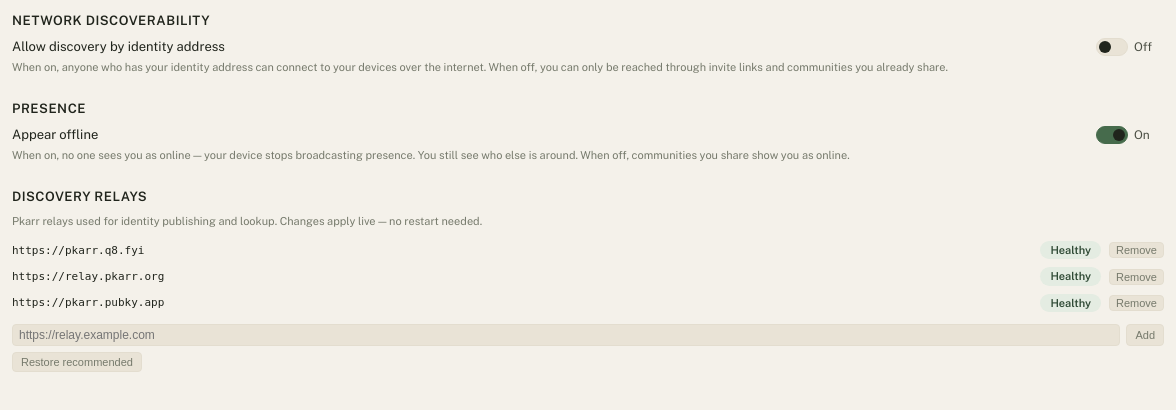
Test: NetworkDiscoverabilitySettings › relay manager › shows inline error and leaves list unchanged on invalid-URL rejection
The width and height of the screenshot is (1176, 410).
Type "not-a-url" into the field with test id "relay-url-input" at coordinates (566, 335), box [12,324,1120,346]
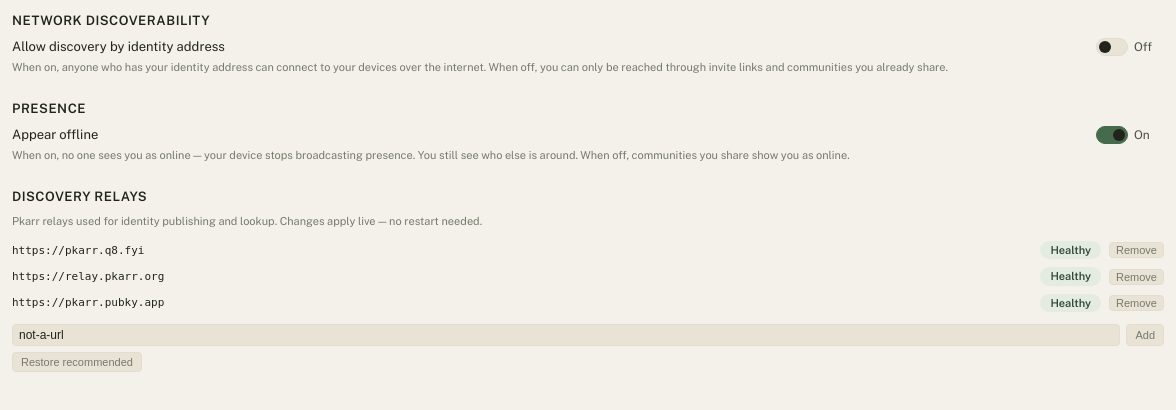
Click the button with test id "relay-add-button" at coordinates (1145, 335), box [1126,324,1164,346]
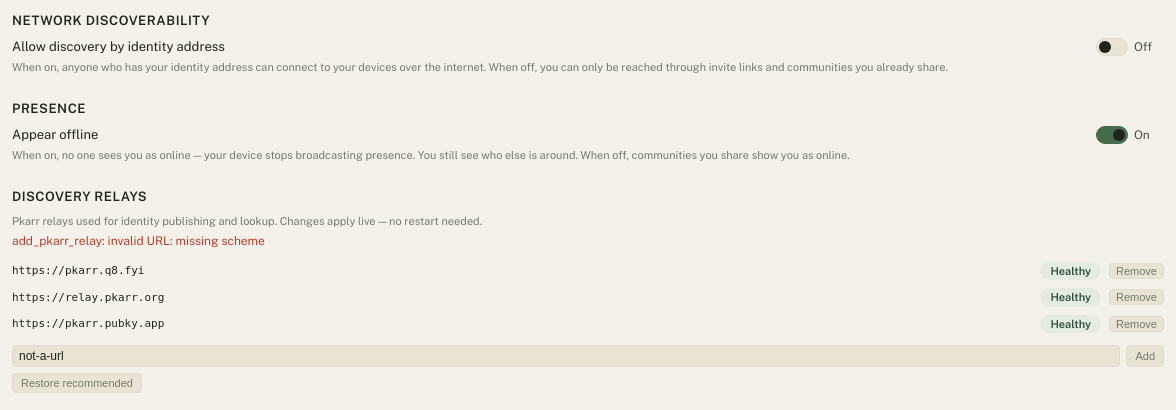
Check: the text with test id "relay-error" shows "invalid URL: missing scheme", box [12,234,265,248]
